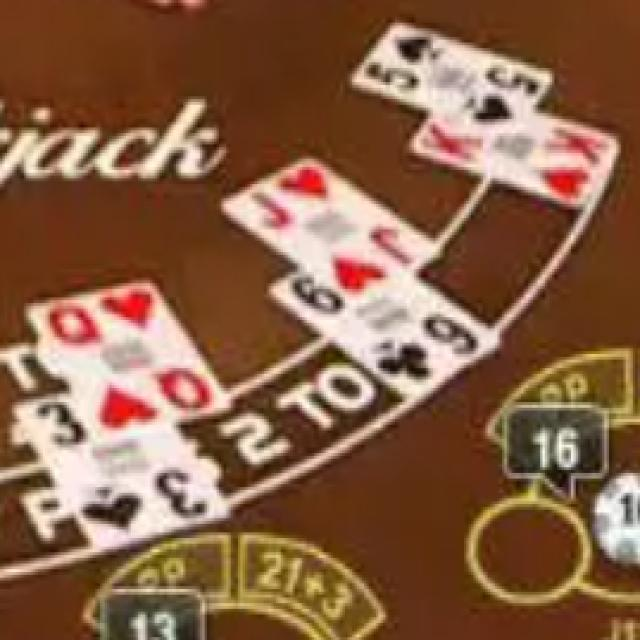Card-3: (13, 391, 230, 549)
Card-5: (350, 16, 552, 134)
Card-6: (271, 268, 501, 400)
Card-J: (219, 155, 440, 305)
Card-K: (413, 112, 621, 208)
Card-Q: (26, 280, 230, 446)
